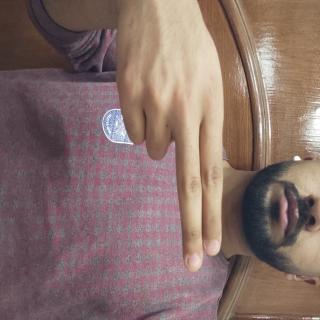AYN: (0, 114, 214, 282)
